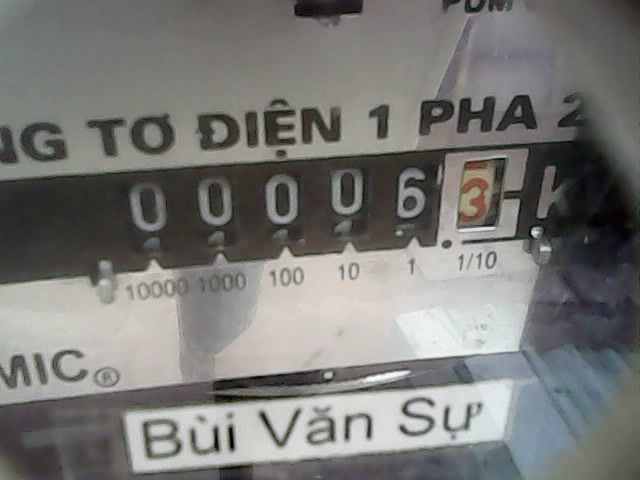phy_plate: (102, 142, 525, 260)
